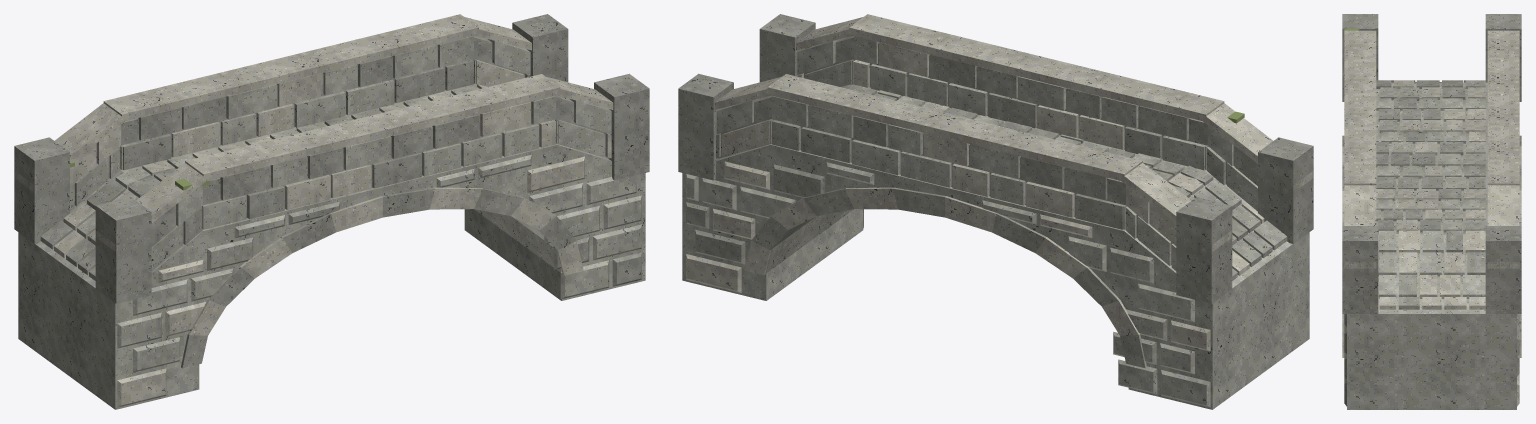
File: stone_village_bridge.glb
The picture shows the model from 3 angles, left to right: view 1: azimuth 30°, elevation 25°; view 2: azimuth 150°, elevation 25°; view 3: azimuth 270°, elevation 25°; orthographic projection. The views are drawn at different scales.
Visible parts, largest first — view 1: BridgeBody; view 2: BridgeBody; view 3: BridgeBody.
Part boxes in pixels (x1=…): BridgeBody: x1=14, y1=14, x2=649, y2=409; BridgeBody: x1=678, y1=14, x2=1313, y2=409; BridgeBody: x1=1342, y1=14, x2=1521, y2=409.
Bounding box in the file's own units: 6.04 × 2.33 × 2.
4 materials, 3 textured.
